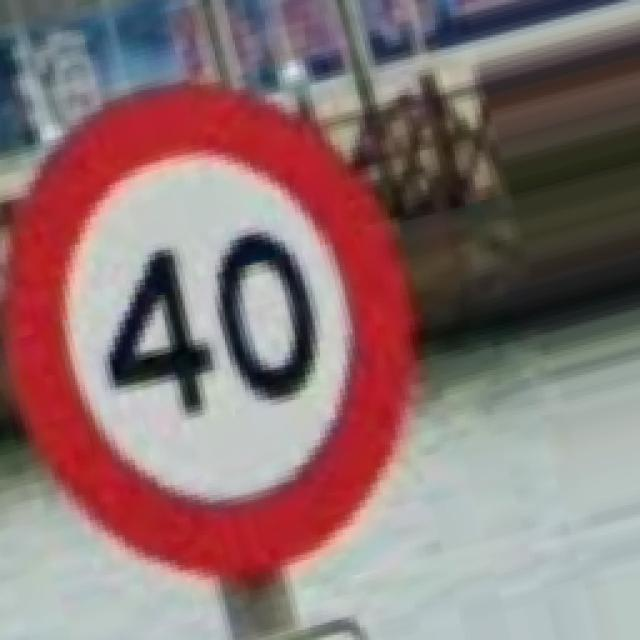Speed Limit -40-: (8, 82, 412, 577)
